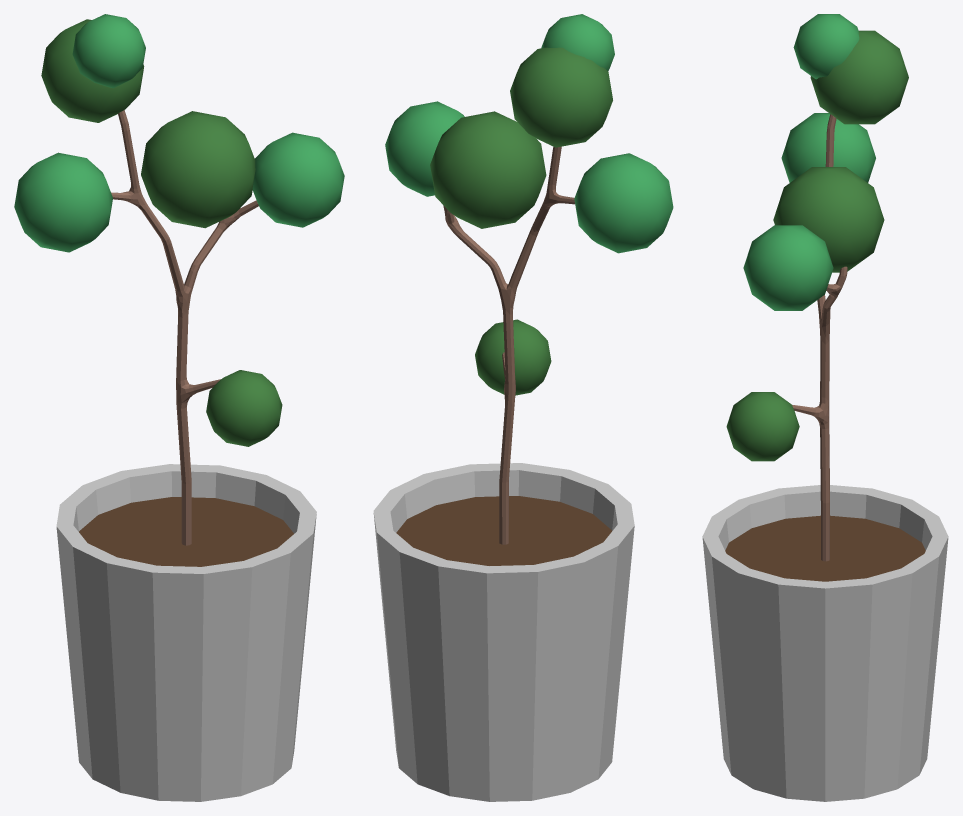
File: Plante2.fbx
3 renders of one model, left to right at view 1: azimuth 30°, elevation 25°; view 2: azimuth 150°, elevation 25°; view 3: azimuth 270°, elevation 25°, orthographic. The views are drawn at different scales.
Visible parts, largest first — view 1: Plante1; view 2: Plante1; view 3: Plante1.
Boxes of the visible parts, x1,y1,x2,y2 form: Plante1: [14, 14, 344, 801]; Plante1: [373, 14, 673, 801]; Plante1: [702, 14, 948, 801].
Size of the model in its own units: 55.85 by 137 by 43.25.
